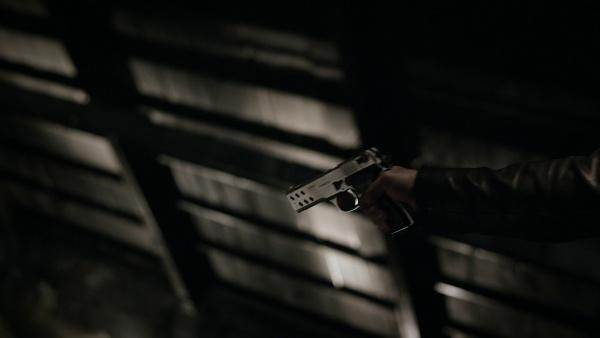Gun: (286, 144, 416, 237)
